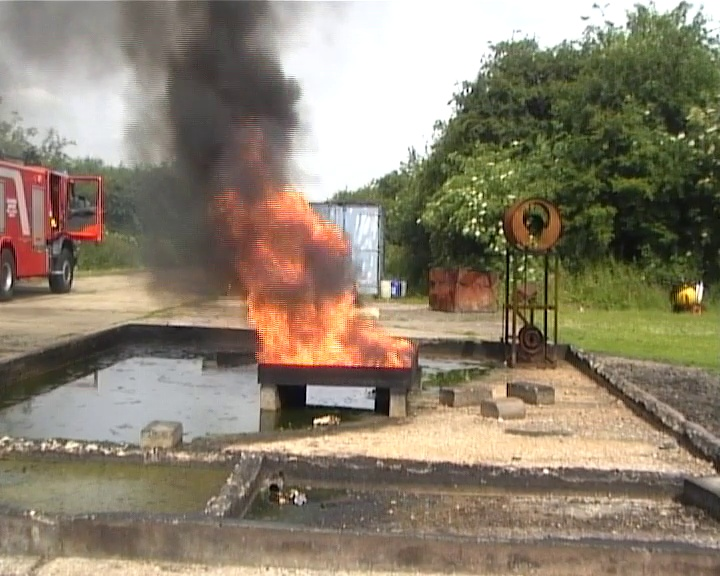fire: (236, 194, 410, 366)
